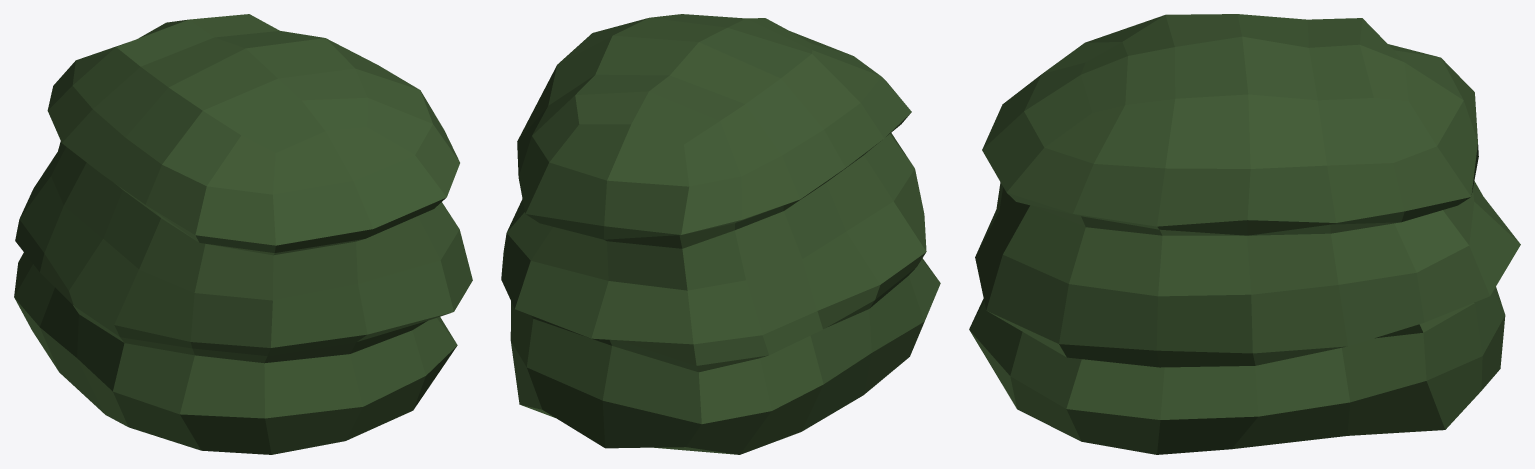
Rendered from bush.fbx.
3 views of the same model, side by side, from view 1: azimuth 30°, elevation 25°; view 2: azimuth 150°, elevation 25°; view 3: azimuth 270°, elevation 25° (orthographic). The views are drawn at different scales.
Parts seen in each view (by area): view 1: bush; view 2: bush; view 3: bush.
Boxes of the visible parts, x1,y1,x2,y2 form: bush: [14, 14, 472, 454]; bush: [501, 14, 940, 454]; bush: [969, 14, 1520, 454].
Bounding box in the file's own units: 1.33 × 1.24 × 1.69.
